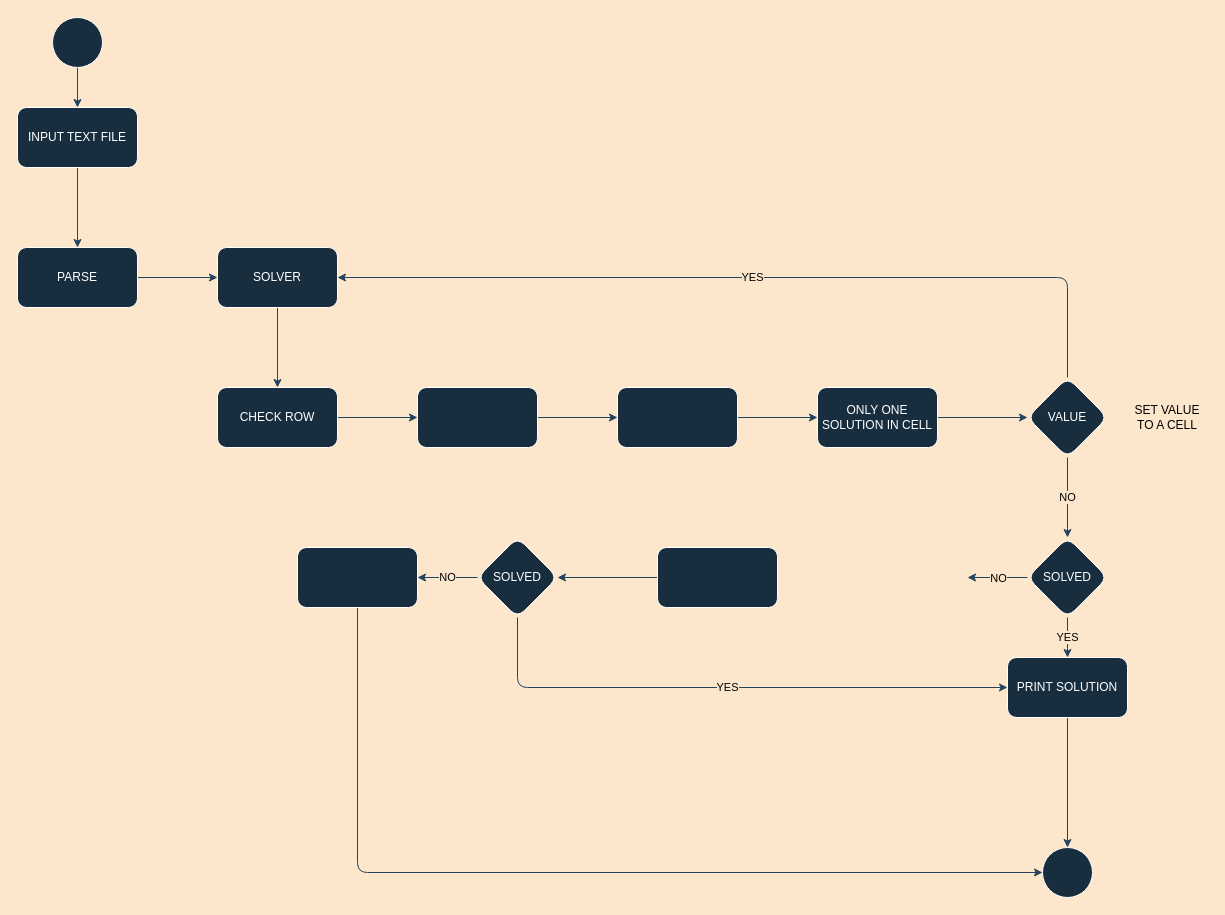
Some shapes in this 1225 by 915 pixel diagram are drawn without their labels. The shapes that lost their labels are listed below. From the top down, each one's centre as x and y in pixels, then its label:
At pixel 477 417: "CHECK COL".
At pixel 677 417: "CHECK BOX".
At pixel 357 577: "PRINT ERROR".
At pixel 717 577: "BRUTE FORCE".
